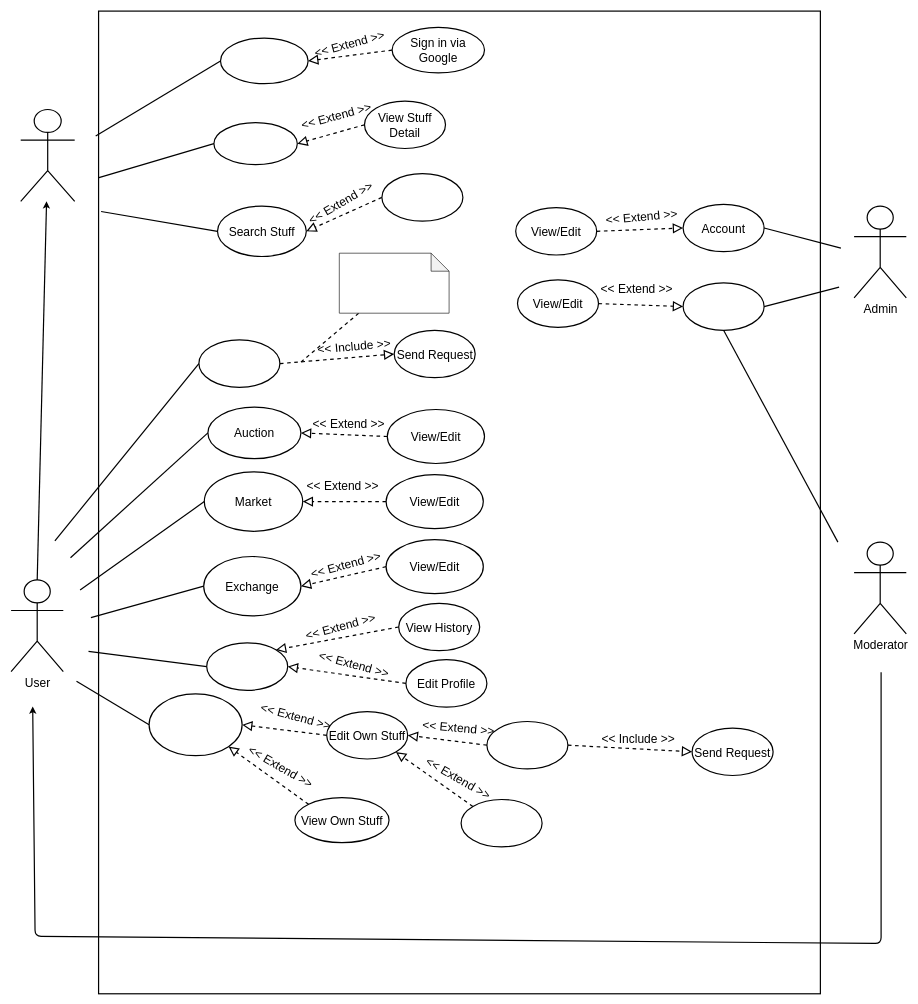
Image size: 918x1004. Some labels were removed from this diagram. The centre of each missing label's shape, as x and y in pixels:
"Condition: User create donate stuff" goes at point 394,283.
"Create Stuff" goes at point 239,363.
"Delete" goes at point 527,745.
"Filter" goes at point 422,197.
"Guest" goes at point 47,155.
"Manage Stuff" goes at point 195,724.
"Profile" goes at point 247,666.
"Request" goes at point 723,306.
"Sign in" goes at point 264,60.
"Update" goes at point 501,823.
"View Stuff" goes at point 255,143.
